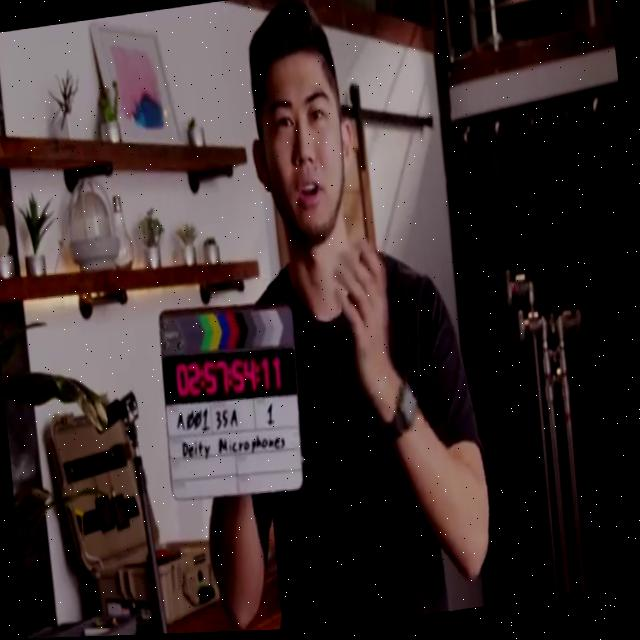Clapperboard: (149, 283, 312, 511)
